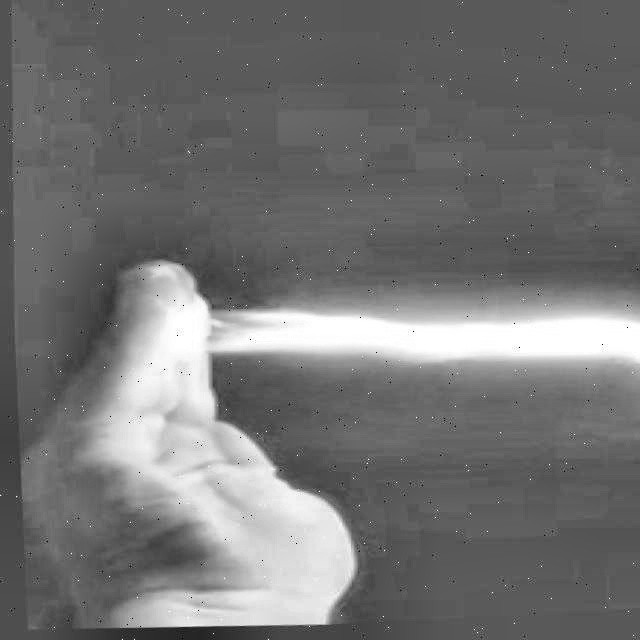Fire: (154, 273, 640, 412)
